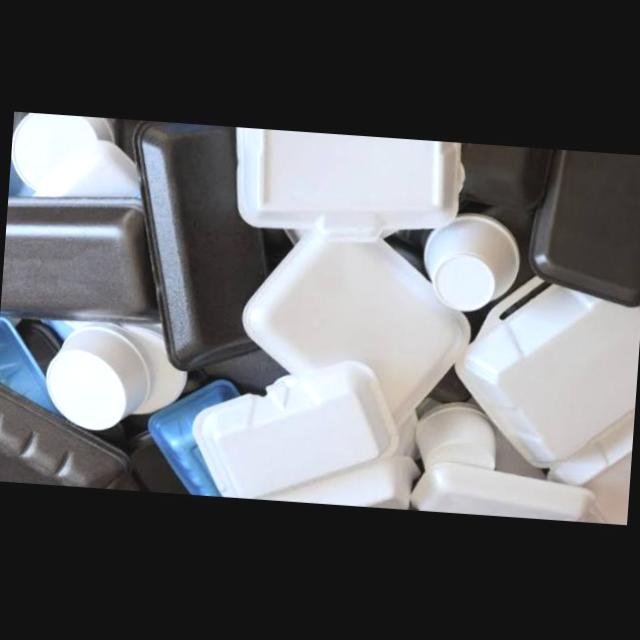xop: (454, 275, 640, 525), (242, 235, 471, 426), (133, 120, 292, 371), (193, 359, 422, 509), (235, 126, 465, 242), (0, 194, 162, 323), (528, 148, 640, 307), (0, 382, 145, 491), (45, 321, 151, 430), (147, 377, 240, 496), (410, 461, 594, 521), (423, 213, 521, 311), (11, 112, 115, 190), (0, 316, 65, 418), (415, 402, 495, 469)
